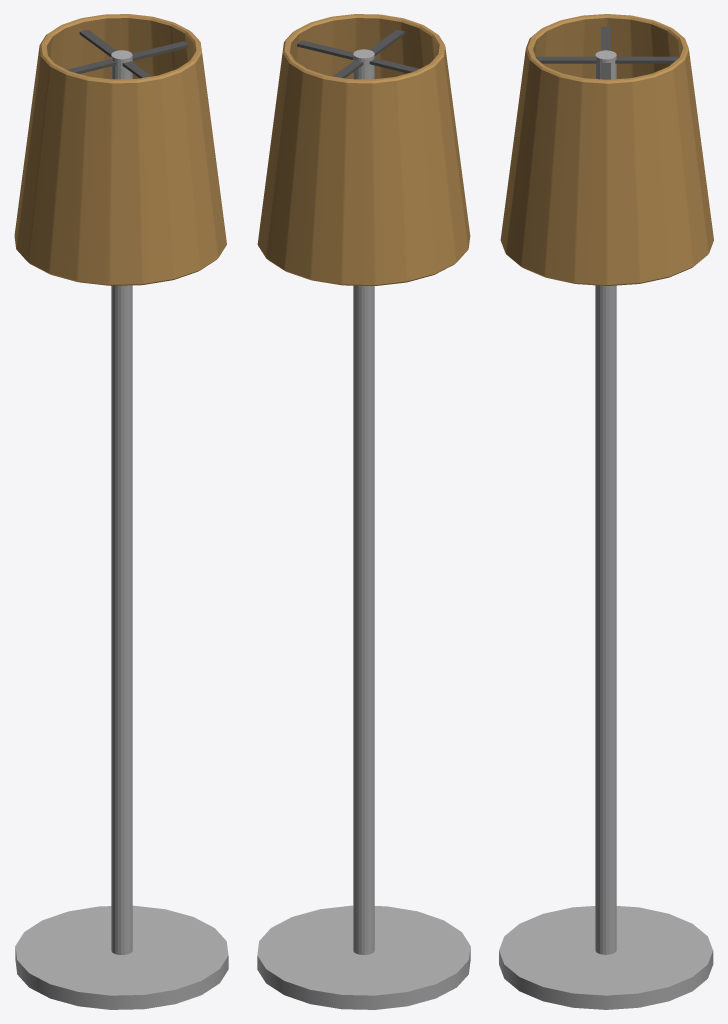
File: lampe_02.fbx
3 views of the same model, side by side, from view 1: azimuth 30°, elevation 25°; view 2: azimuth 150°, elevation 25°; view 3: azimuth 270°, elevation 25° (orthographic).
Visible parts, largest first — view 1: pasted__lampe; view 2: pasted__lampe; view 3: pasted__lampe.
Boxes of the visible parts, x1,y1,x2,y2 form: pasted__lampe: (14, 14, 228, 1009); pasted__lampe: (257, 14, 470, 1009); pasted__lampe: (499, 14, 713, 1009).
Bounding box in the file's own units: 2 × 9.45 × 2.01.
